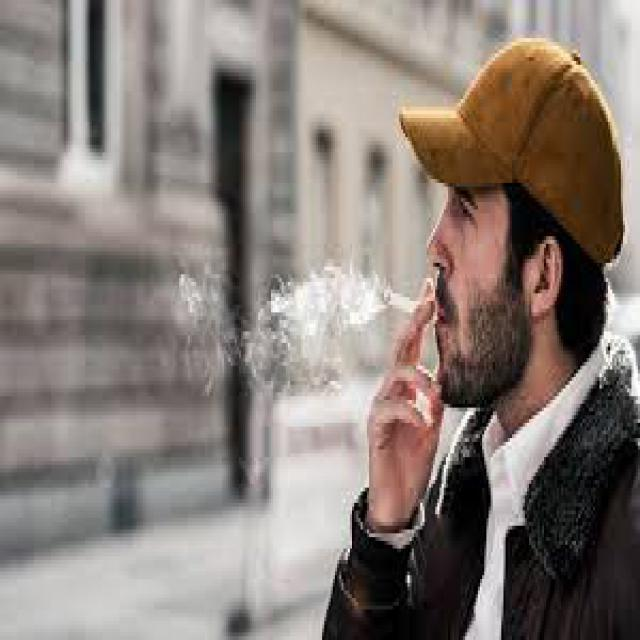smoking: (341, 275, 440, 330)
